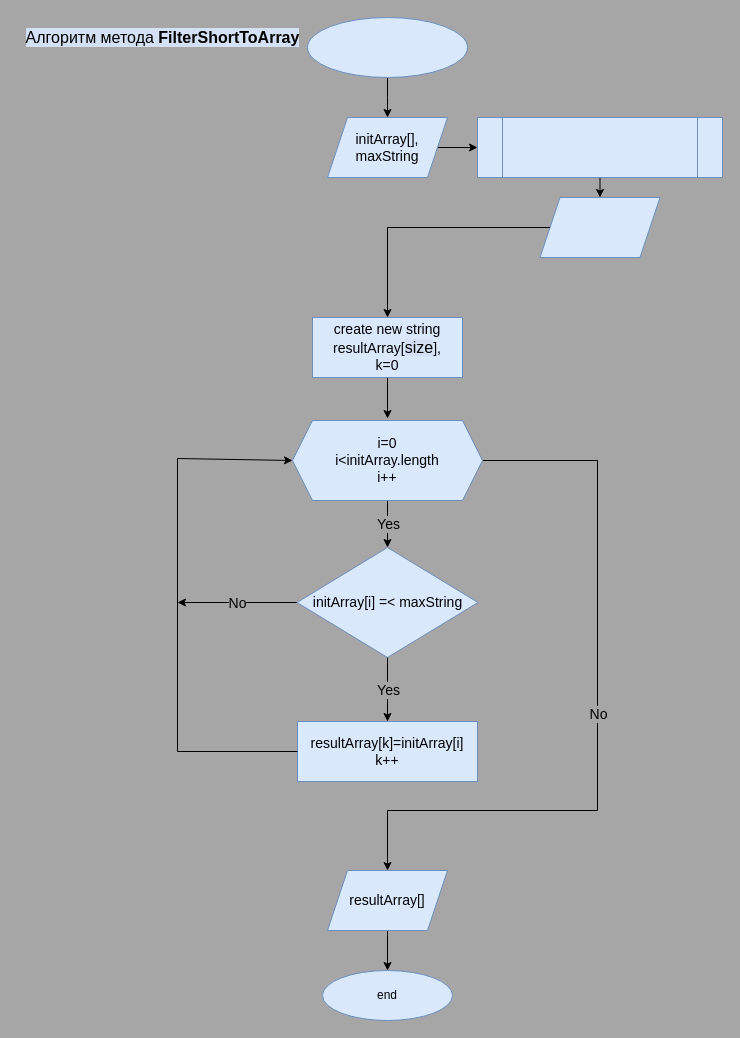
Some shapes in this 740 by 1038 pixel diagram are drawn without their labels. The centre of each missing label's shape, as x and y in pixels:
"size" belongs at [599,227].
"start" belongs at [387,47].
"Вызов функции CountShortWords( initArray[], maxString)" belongs at [599,147].
